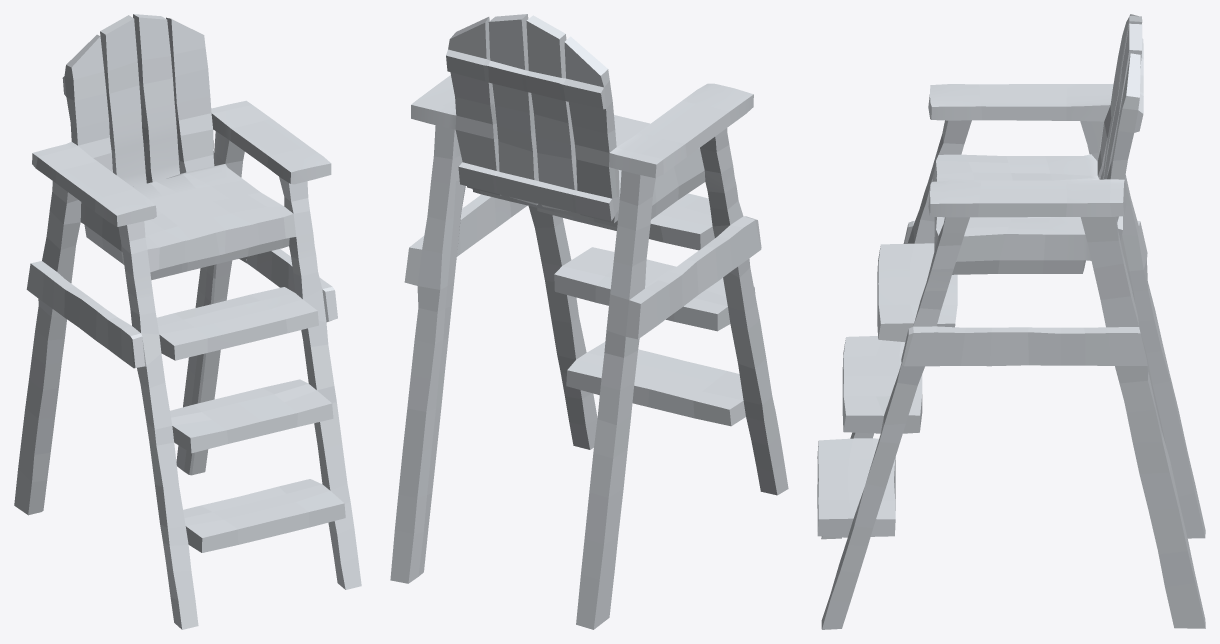
Rendered from GuardChair.fbx.
3 views of the same model, side by side, from view 1: azimuth 30°, elevation 25°; view 2: azimuth 150°, elevation 25°; view 3: azimuth 270°, elevation 25° (orthographic). The views are drawn at different scales.
Visible parts, largest first — view 1: GuardChair; view 2: GuardChair; view 3: GuardChair.
Part boxes in pixels (box(x1,y1,x2,y2)): GuardChair: box(14, 14, 361, 629); GuardChair: box(390, 14, 788, 629); GuardChair: box(817, 14, 1205, 629).
Size of the model in its own units: 90.78 by 196 by 124.
1 material, 1 textured.
